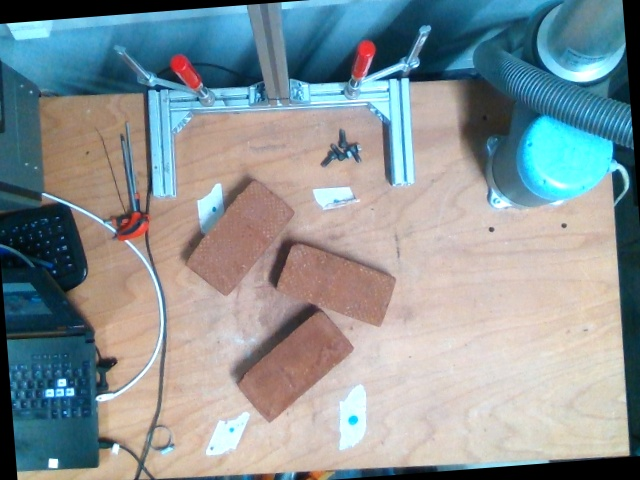brick: (234, 309, 352, 423), (186, 178, 293, 297), (276, 242, 394, 327)
